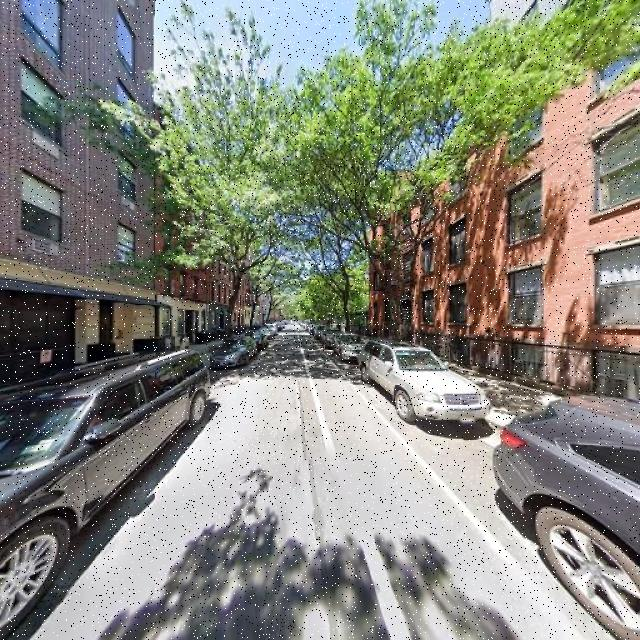Building: (503, 1, 640, 427), (1, 1, 99, 404), (398, 88, 497, 384)
